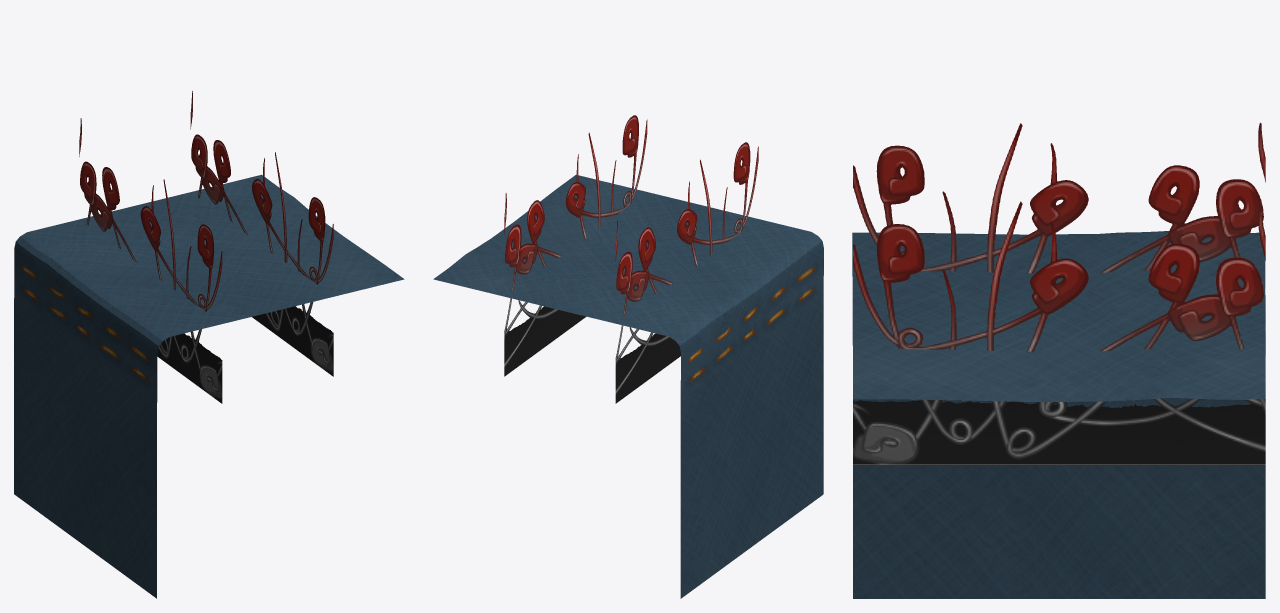
The model's file is tl_spike.FBX.
3 renders of one model, left to right at view 1: azimuth 30°, elevation 25°; view 2: azimuth 150°, elevation 25°; view 3: azimuth 270°, elevation 25°, orthographic. The views are drawn at different scales.
Visible parts, largest first — view 1: tl_spikebase_MESH, tl_spike2_MESH, tl_spike1_MESH; view 2: tl_spikebase_MESH, tl_spike2_MESH, tl_spike1_MESH; view 3: tl_spikebase_MESH, tl_spike2_MESH, tl_spike1_MESH.
Part boxes in pixels (x1,y1,x2,y2): tl_spikebase_MESH: (14,174,404,598); tl_spike2_MESH: (190,91,333,376); tl_spike1_MESH: (79,118,222,403); tl_spikebase_MESH: (433,174,823,598); tl_spike2_MESH: (504,115,647,376); tl_spike1_MESH: (615,142,758,403); tl_spikebase_MESH: (852,231,1265,598); tl_spike2_MESH: (853,201,1265,464); tl_spike1_MESH: (853,122,1265,355).
Size of the model in its own units: 100 by 169 by 100.
